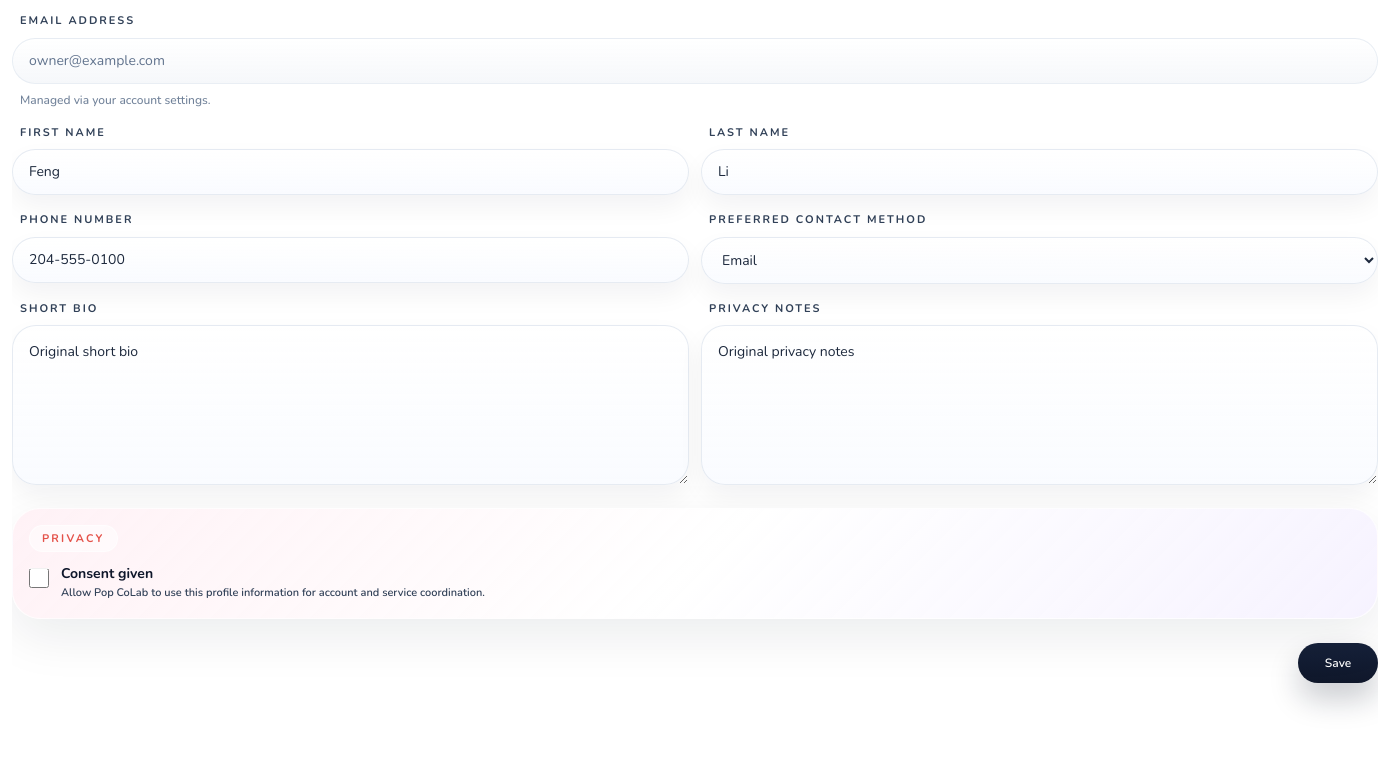
Test: profile components › ProfileForm shows an error when saving fails
The width and height of the screenshot is (1390, 780).
Click the button "Save" at (1338, 663), box [1298, 643, 1378, 683]
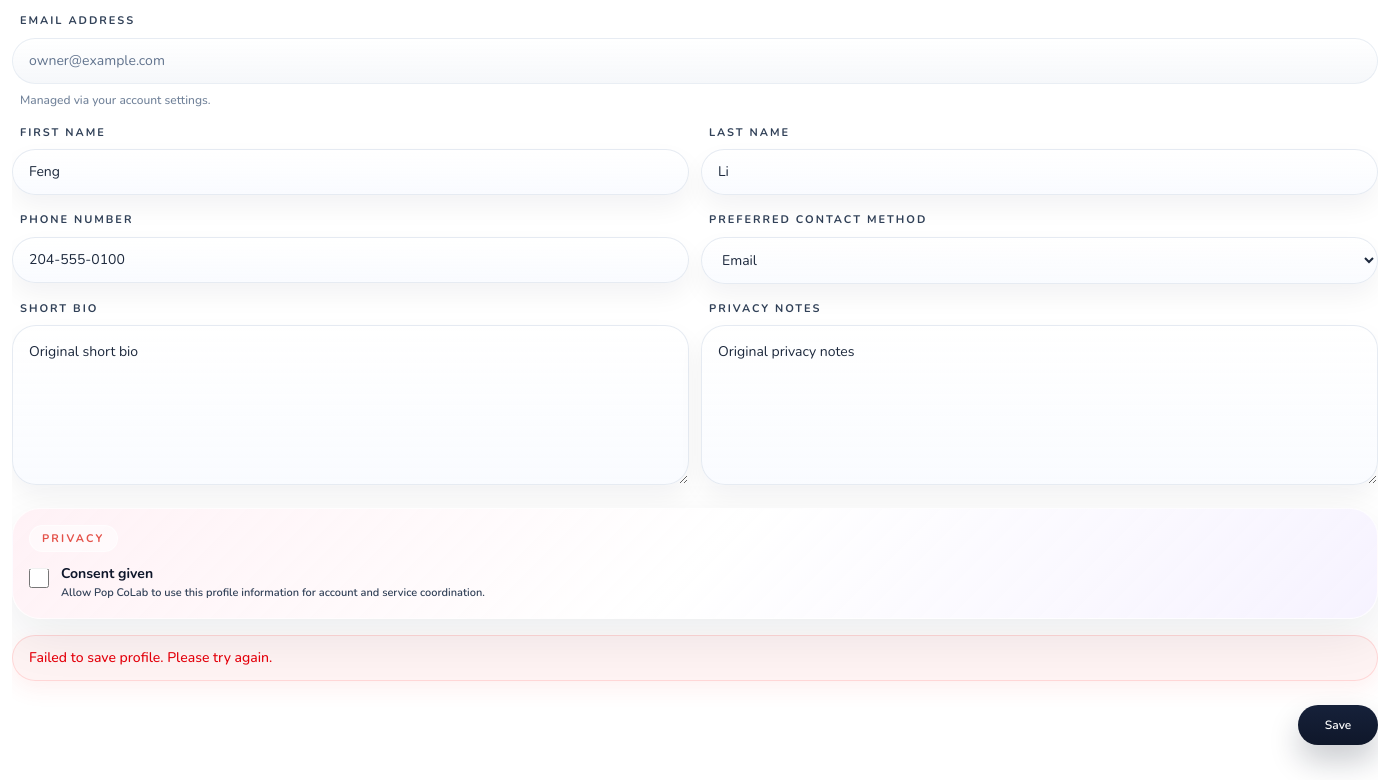
Now the text "Failed to save profile. Please try again." is shown, box [12, 635, 1378, 681]
